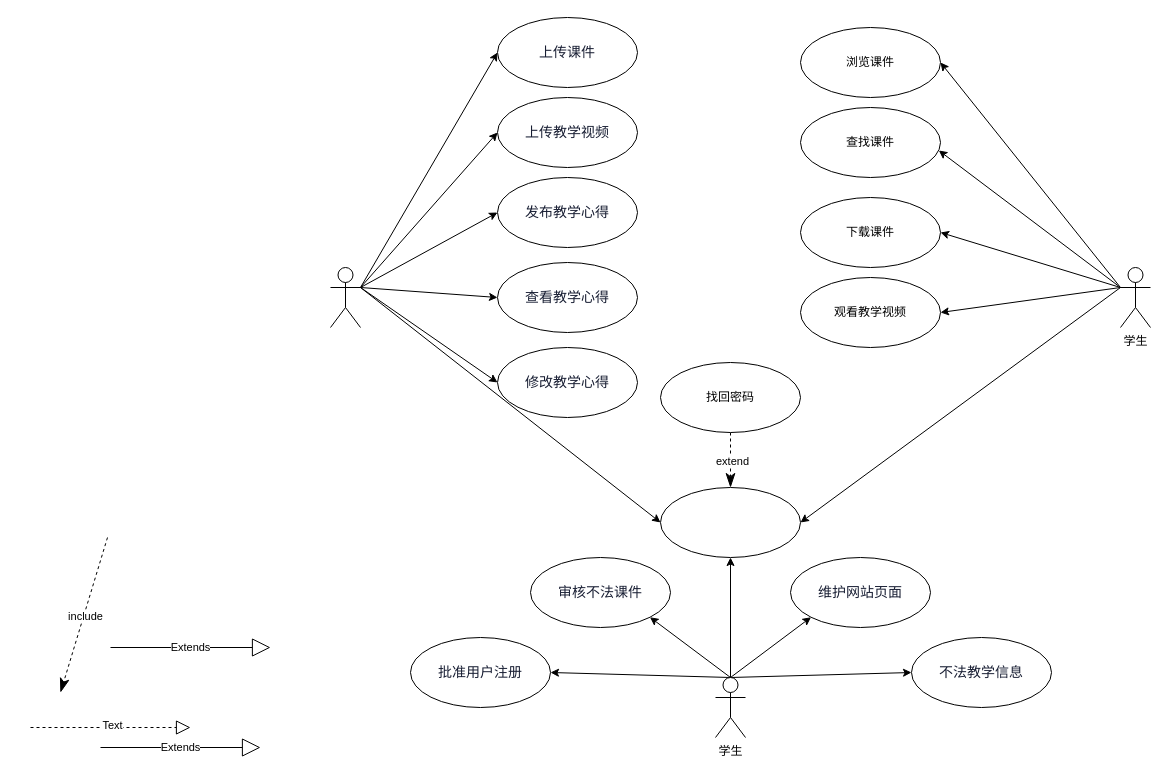
The diagram is 1168 pixels wide and 783 high, and some of its shapes have lost their labels. Each missing label, with the centre of its shape:
"教师" belongs at [345,297].
"登录网站" belongs at [730,522].
